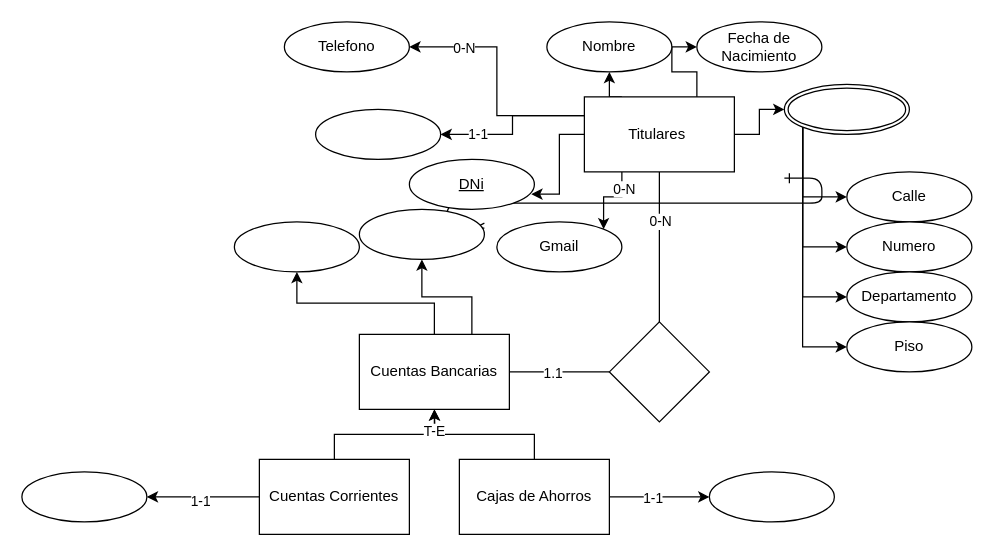
The diagram is 994 pixels wide and 556 high, and some of its shapes have lost their labels. Each missing label, with the centre of its shape:
Apellido: (377,133)
CBU: (296,246)
Direccion: (846,108)
Nro de Cuenta: (421,233)
Saldo: (771,496)
Saldo en Descubierto Permitido: (84,496)
Tiene: (658,371)
